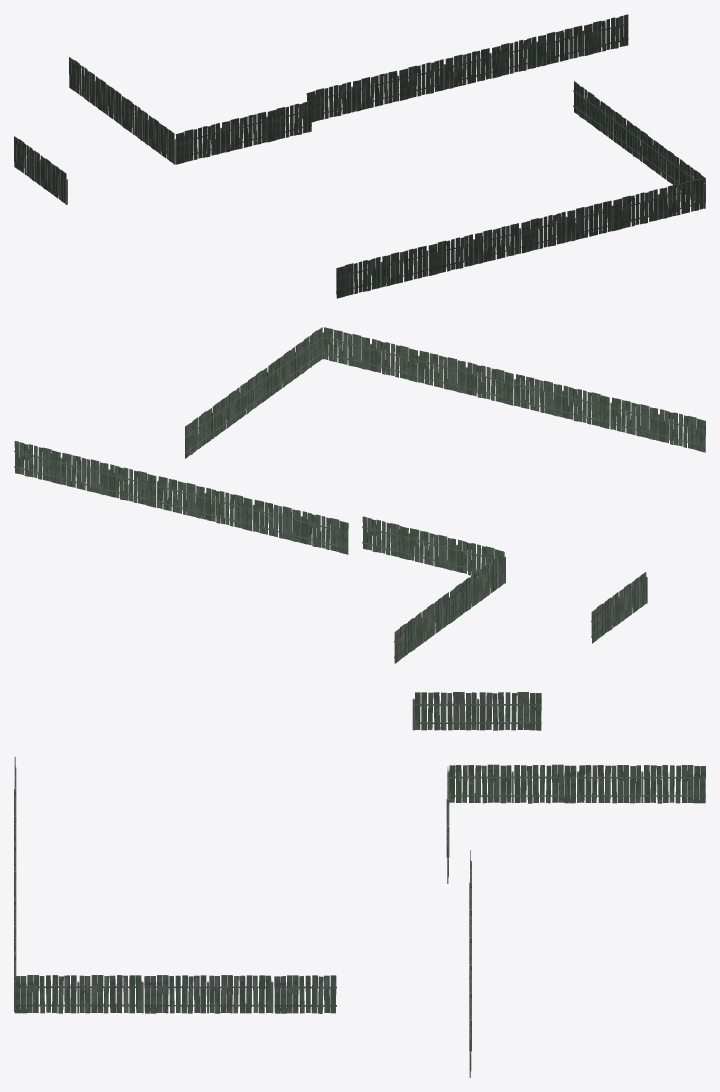
The model's file is tutorialHouse_fence.FBX.
3 views of the same model, one above another, from view 1: azimuth 30°, elevation 25°; view 2: azimuth 150°, elevation 25°; view 3: azimuth 270°, elevation 25° (orthographic). The views are drawn at different scales.
Parts seen in each view (by area): view 1: fence; view 2: fence; view 3: fence.
Part boxes in pixels (x1=…): fence: x1=14, y1=14, x2=705, y2=298; fence: x1=14, y1=327, x2=705, y2=663; fence: x1=14, y1=692, x2=705, y2=1077.
Size of the model in its own units: 26.24 by 1.35 by 22.01.
1 material, 1 textured.
